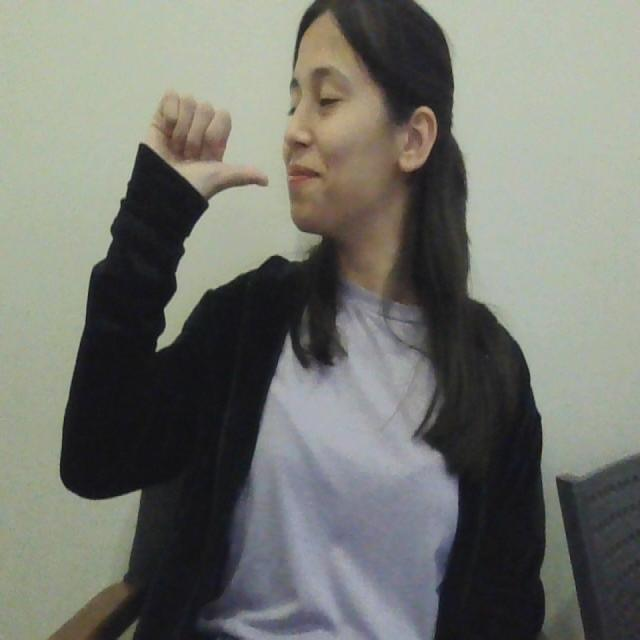icmek: (116, 92, 302, 222)
